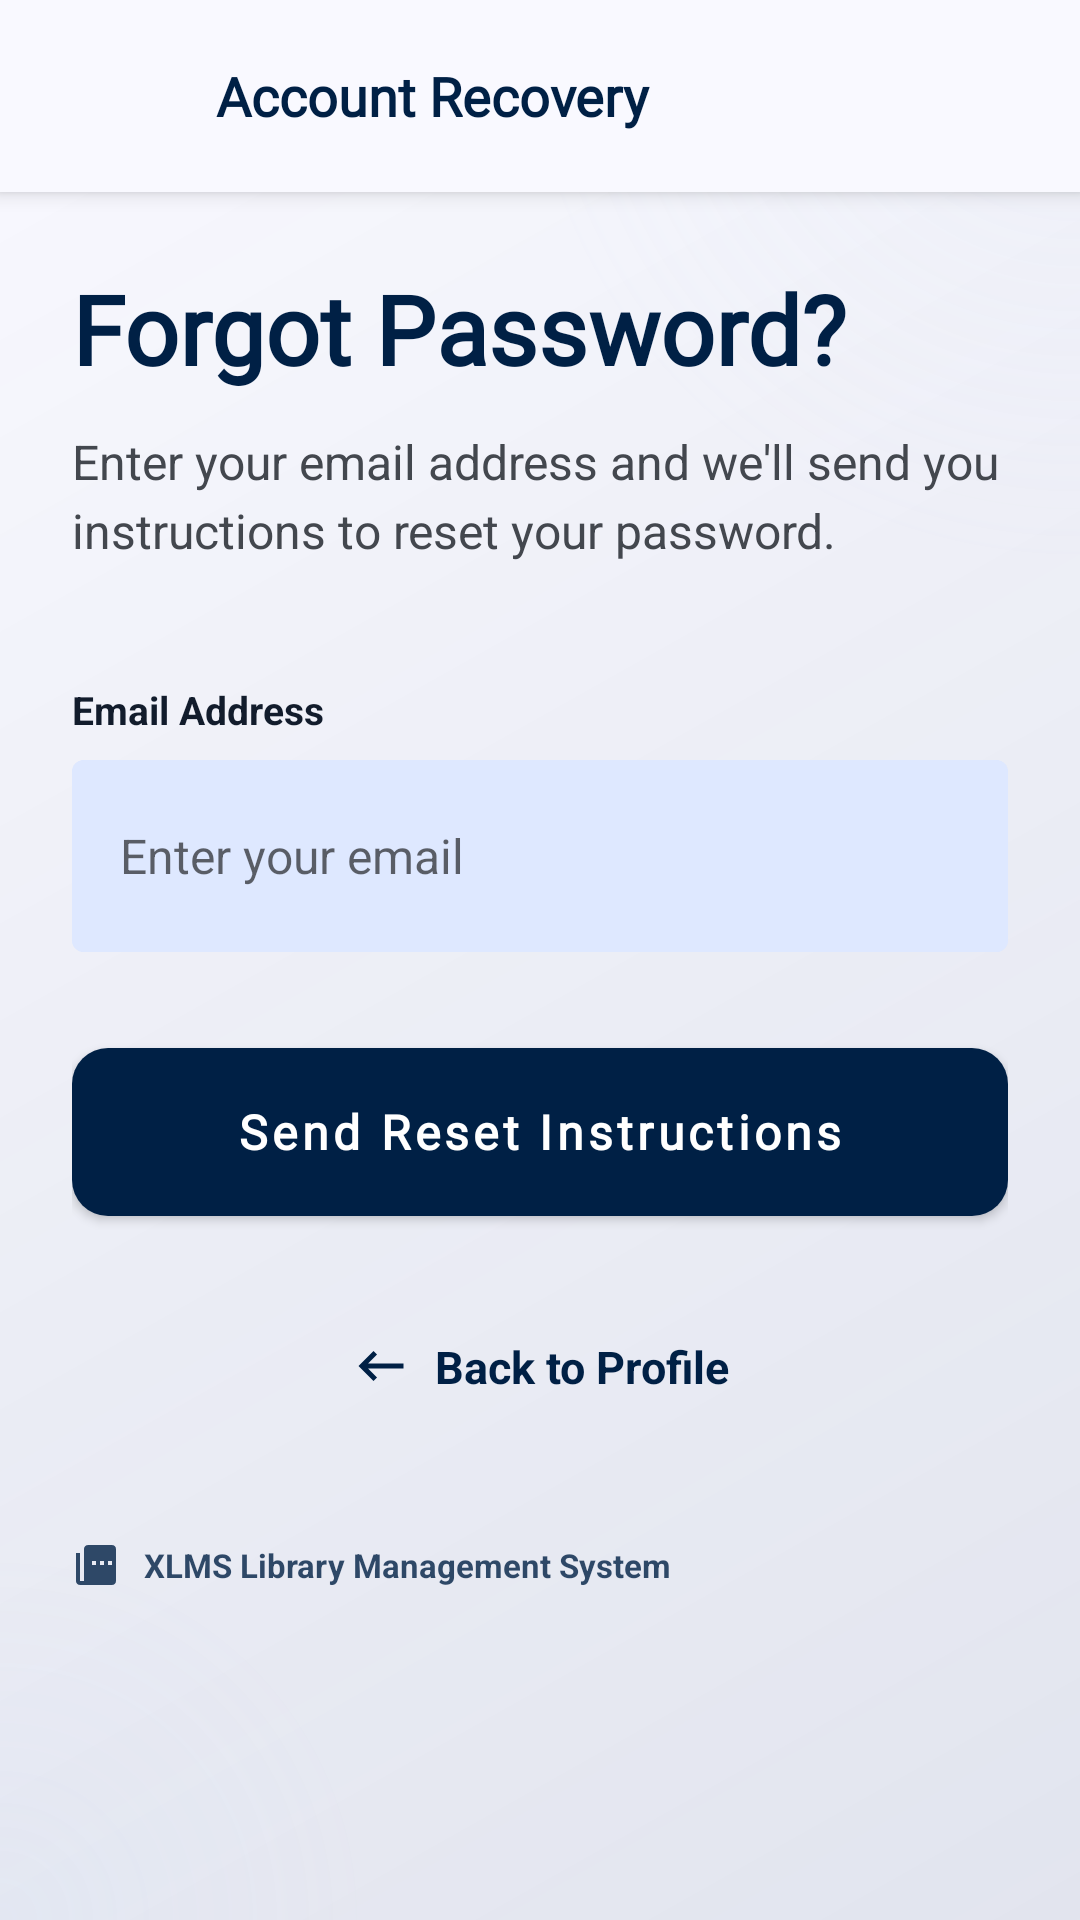

Icons on this 1080w x 1920h Android screen, each with its box as (x1, y1, x2, y2):
keyboard backspace: (358, 1351, 404, 1381)
